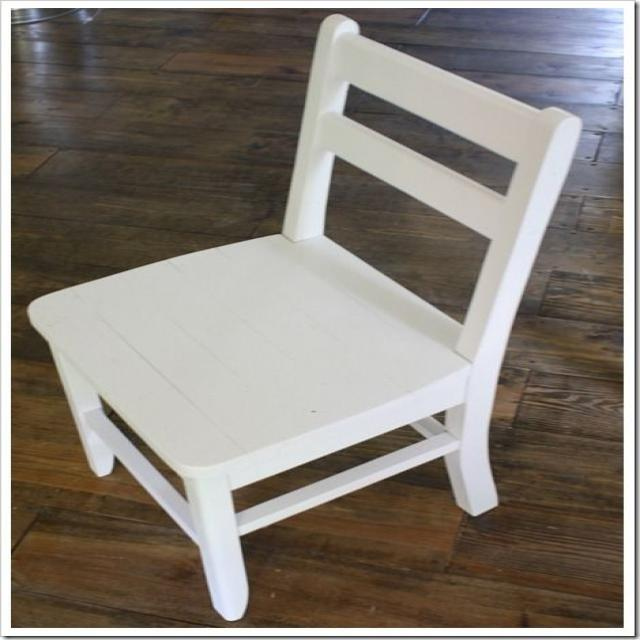chair: (13, 19, 599, 628)
